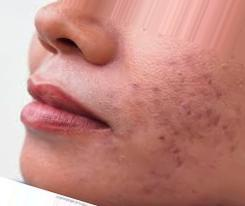Acne: (215, 117, 244, 159), (168, 119, 197, 144), (167, 142, 187, 174), (202, 102, 221, 132), (200, 72, 219, 102), (177, 104, 194, 125), (151, 130, 169, 148)
